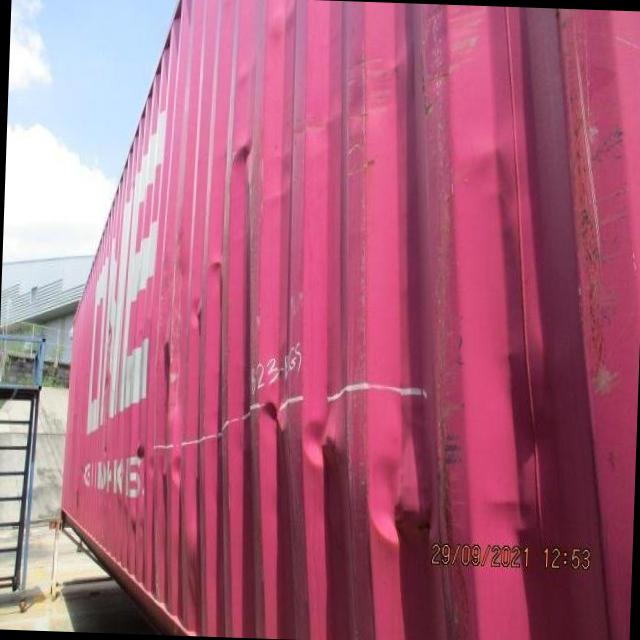Deframe_or_Dent: (244, 375, 450, 578), (146, 435, 216, 635), (183, 228, 233, 346)
